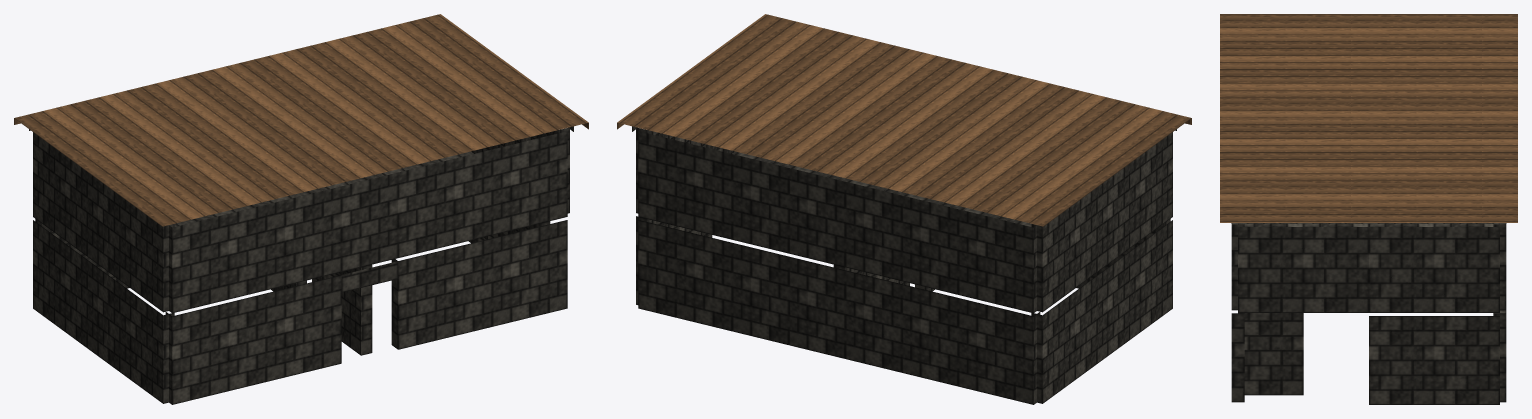
File: house.glb
3 views of the same model, side by side, from view 1: azimuth 30°, elevation 25°; view 2: azimuth 150°, elevation 25°; view 3: azimuth 270°, elevation 25° (orthographic).
Parts seen in each view (by area): view 1: prop; view 2: prop; view 3: prop.
Part boxes in pixels (left/top/right/bottom): prop: left=14, top=14, right=588, bottom=404; prop: left=617, top=14, right=1191, bottom=404; prop: left=1220, top=14, right=1517, bottom=404.
Bounding box in the file's own units: 15.1 × 6.3 × 9.1.
27 materials, 27 textured.
